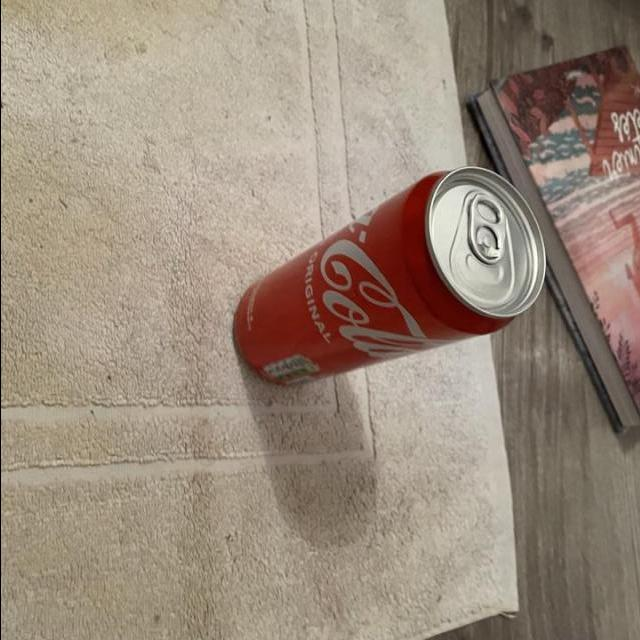can: (228, 162, 558, 400)
